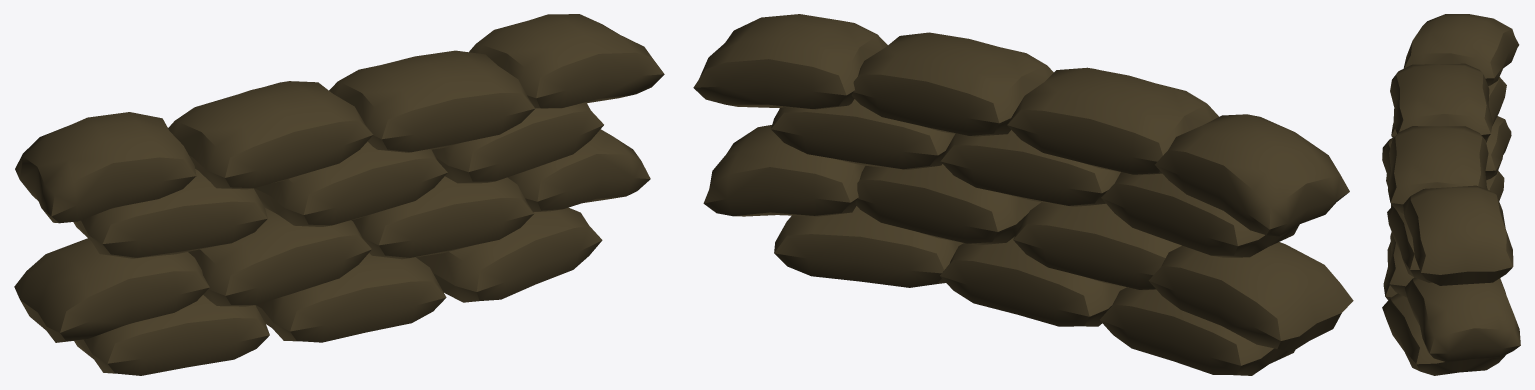
File: SackTrench.obj
3 renders of one model, left to right at view 1: azimuth 30°, elevation 25°; view 2: azimuth 150°, elevation 25°; view 3: azimuth 270°, elevation 25°, orthographic. The views are drawn at different scales.
Visible parts, largest first — view 1: SackTrench_Cube.025; view 2: SackTrench_Cube.025; view 3: SackTrench_Cube.025.
Boxes of the visible parts, left/top/right/bottom form: SackTrench_Cube.025: left=14, top=14, right=664, bottom=375; SackTrench_Cube.025: left=693, top=14, right=1353, bottom=375; SackTrench_Cube.025: left=1382, top=14, right=1520, bottom=375.
Size of the model in its own units: 3.19 by 1.21 by 0.7997.
